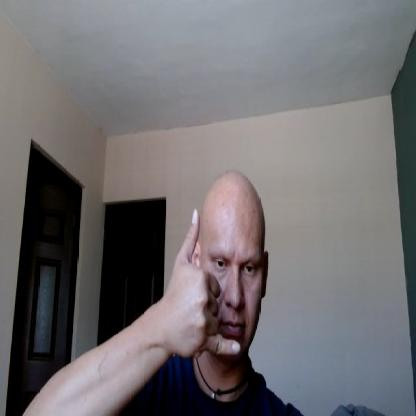Y: (166, 209, 242, 362)
